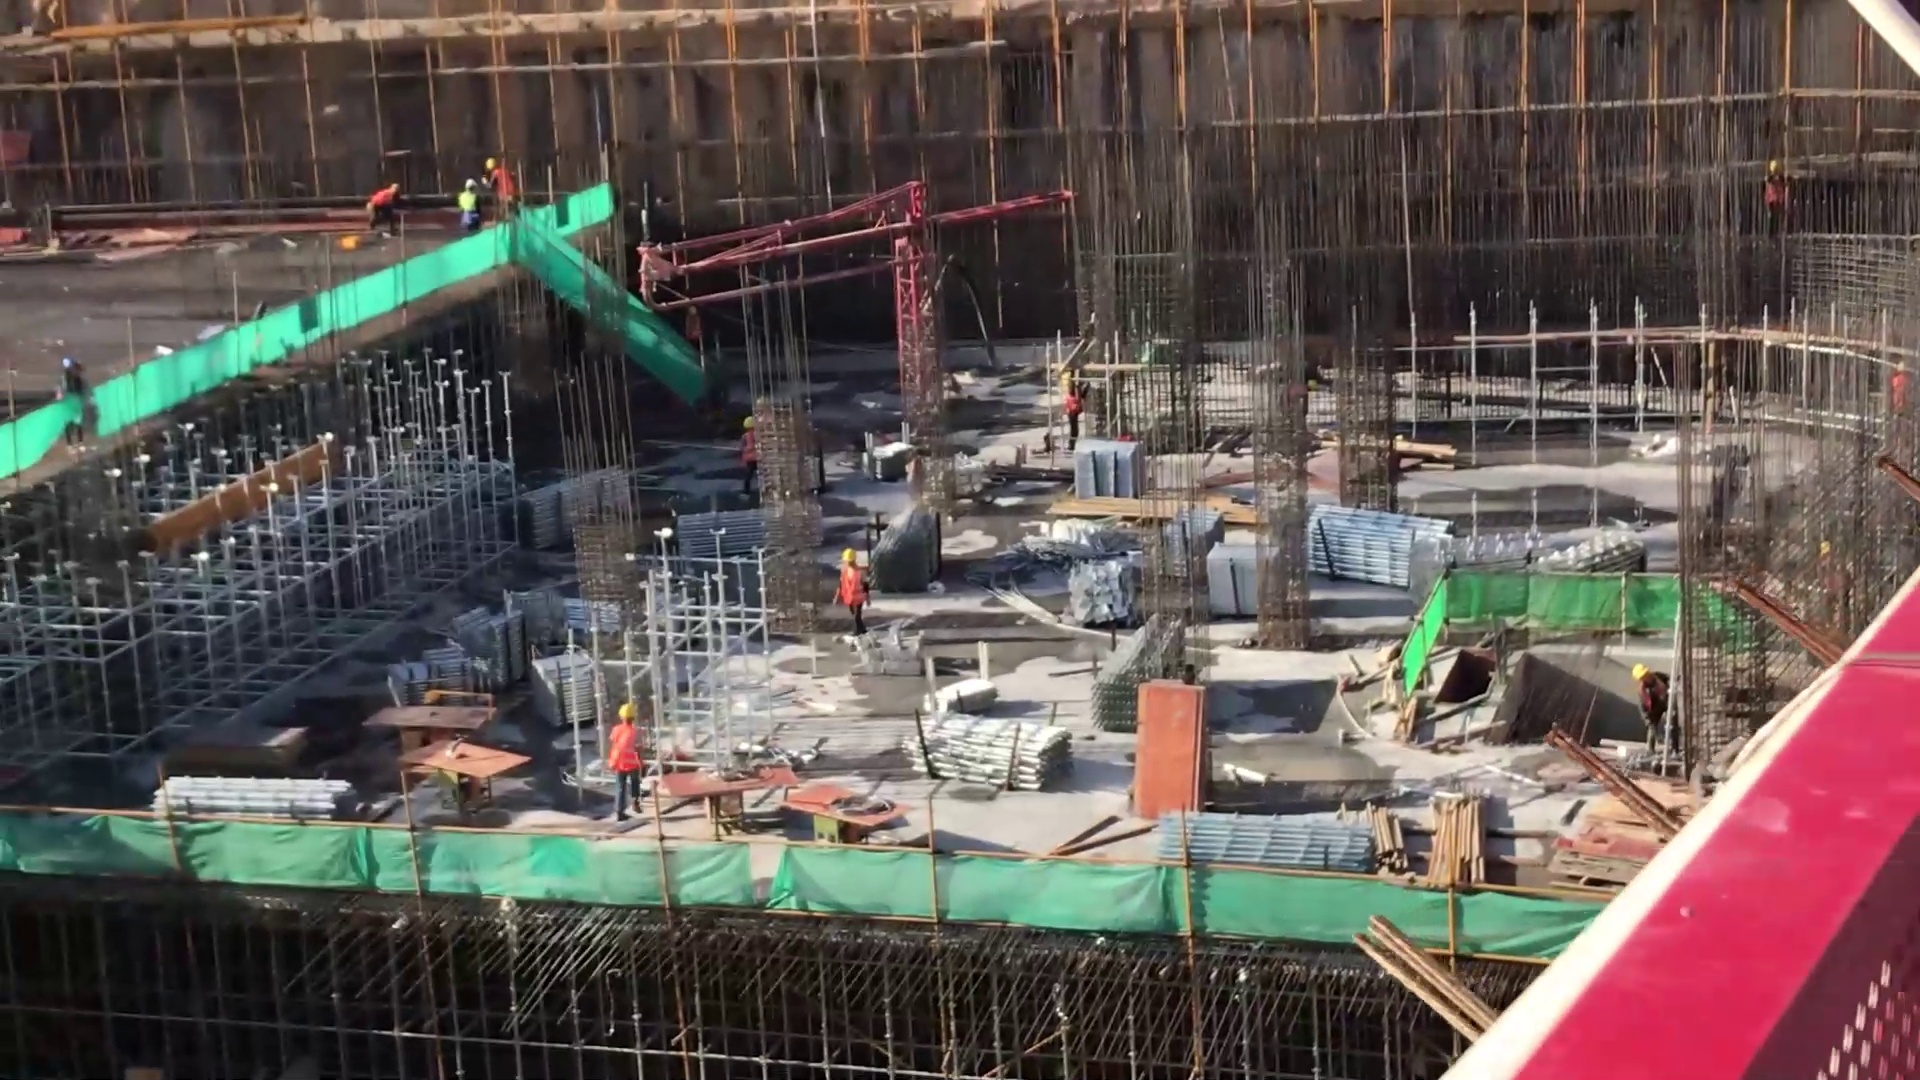board: (366, 697, 518, 785), (1136, 679, 1203, 824), (1543, 819, 1654, 896)
helmet: (840, 536, 863, 570), (613, 703, 636, 731), (1630, 653, 1651, 679), (740, 411, 759, 431), (56, 357, 77, 374), (458, 174, 475, 194), (482, 156, 499, 173), (387, 181, 401, 195)
person: (598, 693, 672, 824), (1623, 652, 1694, 757), (828, 543, 890, 653), (1754, 151, 1800, 235), (480, 160, 526, 220), (360, 179, 409, 234), (732, 414, 765, 486), (1062, 371, 1090, 450), (453, 174, 485, 237), (49, 358, 87, 399)
scaffold: (1152, 813, 1392, 885), (907, 697, 1070, 796), (154, 765, 355, 834), (1310, 504, 1441, 594)
vest: (607, 722, 639, 776), (841, 566, 868, 605), (1637, 680, 1665, 710), (457, 187, 479, 215), (740, 433, 755, 462)
wood: (1345, 916, 1497, 1045), (1043, 487, 1247, 530), (1425, 790, 1478, 898)
